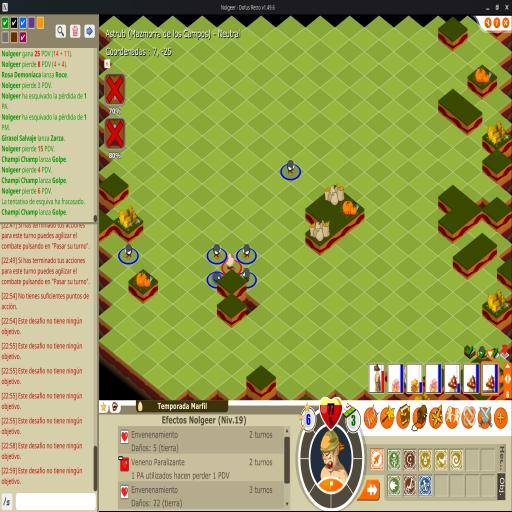Enemigos: (241, 267, 252, 285), (286, 159, 297, 176), (124, 243, 134, 261), (212, 243, 222, 261), (242, 243, 252, 261), (212, 272, 223, 284)
Personaje: (225, 253, 238, 272)
